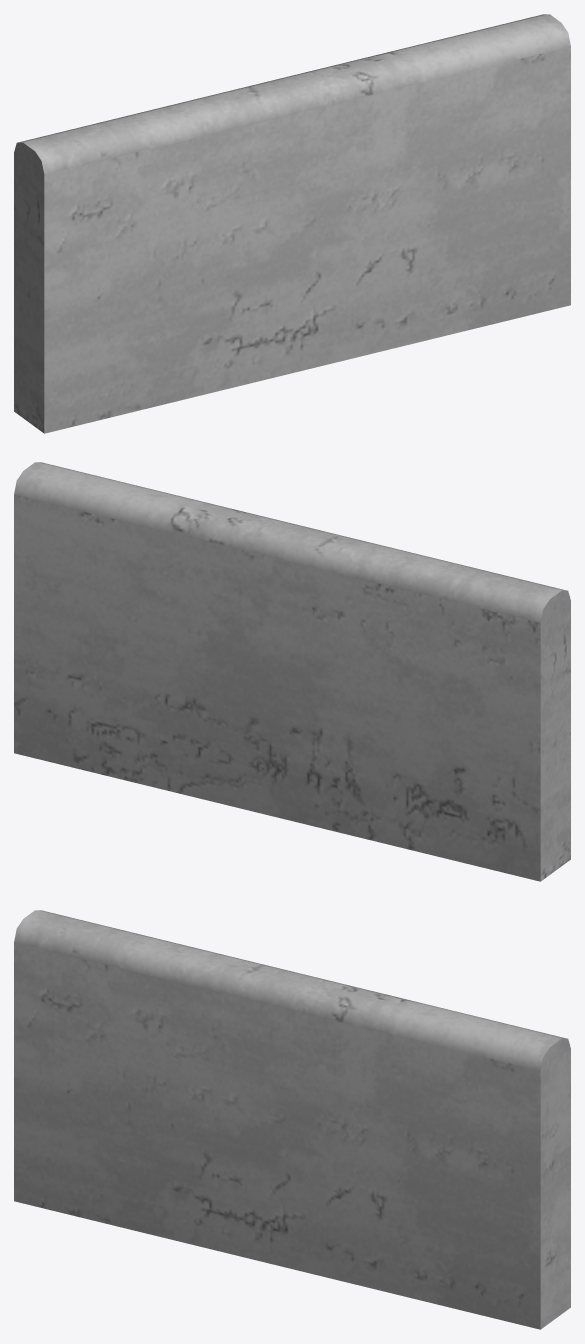
File: FenceUnit_1m.fbx
The picture shows the model from 3 angles, top to bottom: view 1: azimuth 30°, elevation 25°; view 2: azimuth 150°, elevation 25°; view 3: azimuth 330°, elevation 25°; orthographic projection.
Parts seen in each view (by area): view 1: Wall_2m75; view 2: Wall_2m75; view 3: Wall_2m75.
Part boxes in pixels (x1,y1,x2,y2): Wall_2m75: (14,14,570,433); Wall_2m75: (14,462,570,881); Wall_2m75: (14,910,570,1329).
Bounding box in the file's own units: 200 × 100 × 20.
Materials: 1 (1 with a texture image).
